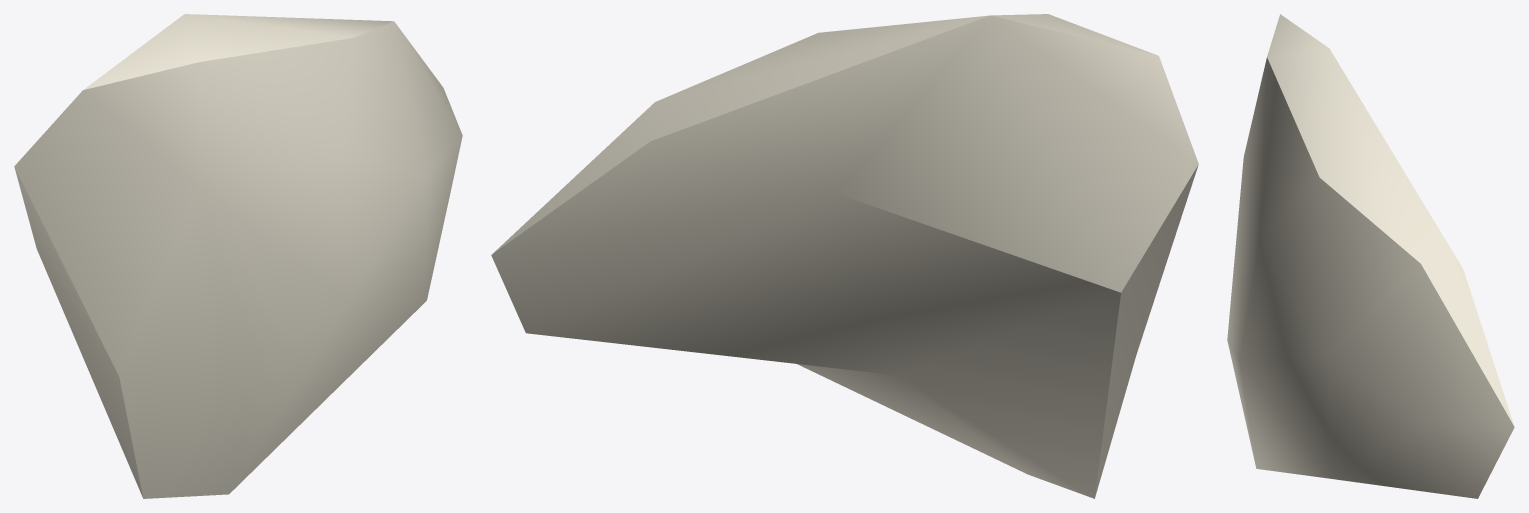
File: fma323747-l_mm2010m.glb
3 renders of one model, left to right at view 1: azimuth 30°, elevation 25°; view 2: azimuth 150°, elevation 25°; view 3: azimuth 270°, elevation 25°, orthographic. The views are drawn at different scales.
Visible parts, largest first — view 1: FMA323747-L_MM2010M; view 2: FMA323747-L_MM2010M; view 3: FMA323747-L_MM2010M.
Boxes of the visible parts, left/top/right/bottom form: FMA323747-L_MM2010M: left=14, top=14, right=462, bottom=498; FMA323747-L_MM2010M: left=491, top=14, right=1198, bottom=498; FMA323747-L_MM2010M: left=1227, top=14, right=1514, bottom=498.
Bounding box in the file's own units: 0.00618 × 0.00495 × 0.00308.
